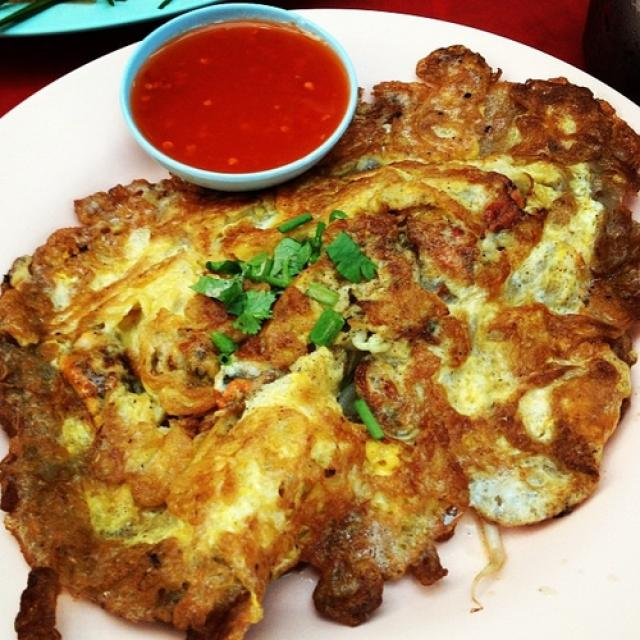炸货点心: (5, 18, 631, 623)
蛋糕甜品: (5, 18, 631, 623)
